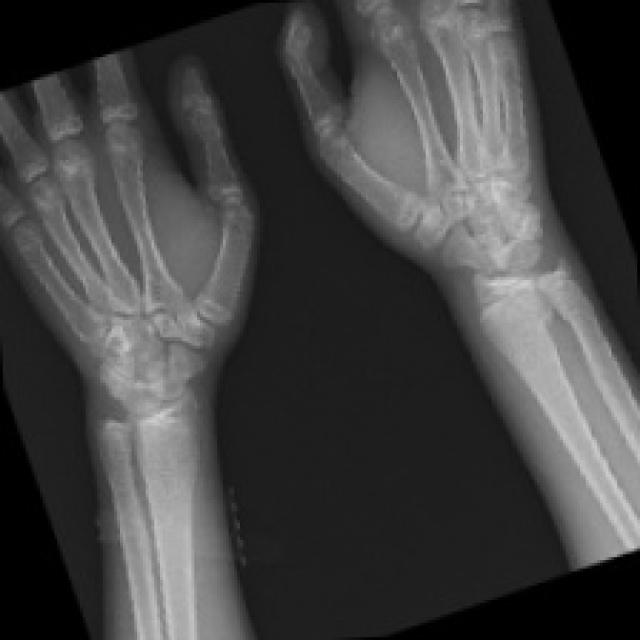fracture: (427, 241, 610, 346)
